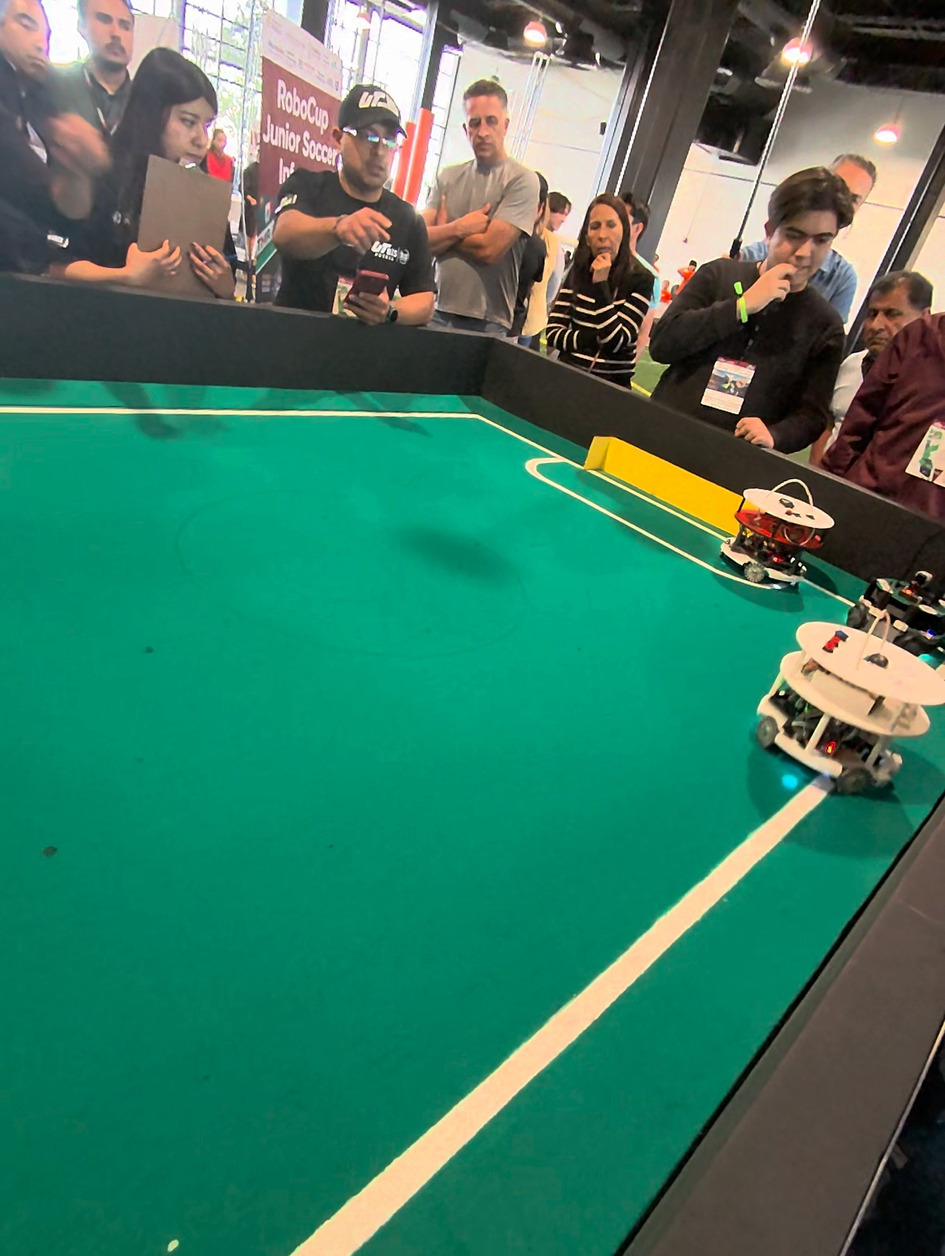Robot: (746, 583, 924, 810), (860, 517, 945, 681), (718, 480, 816, 605)
